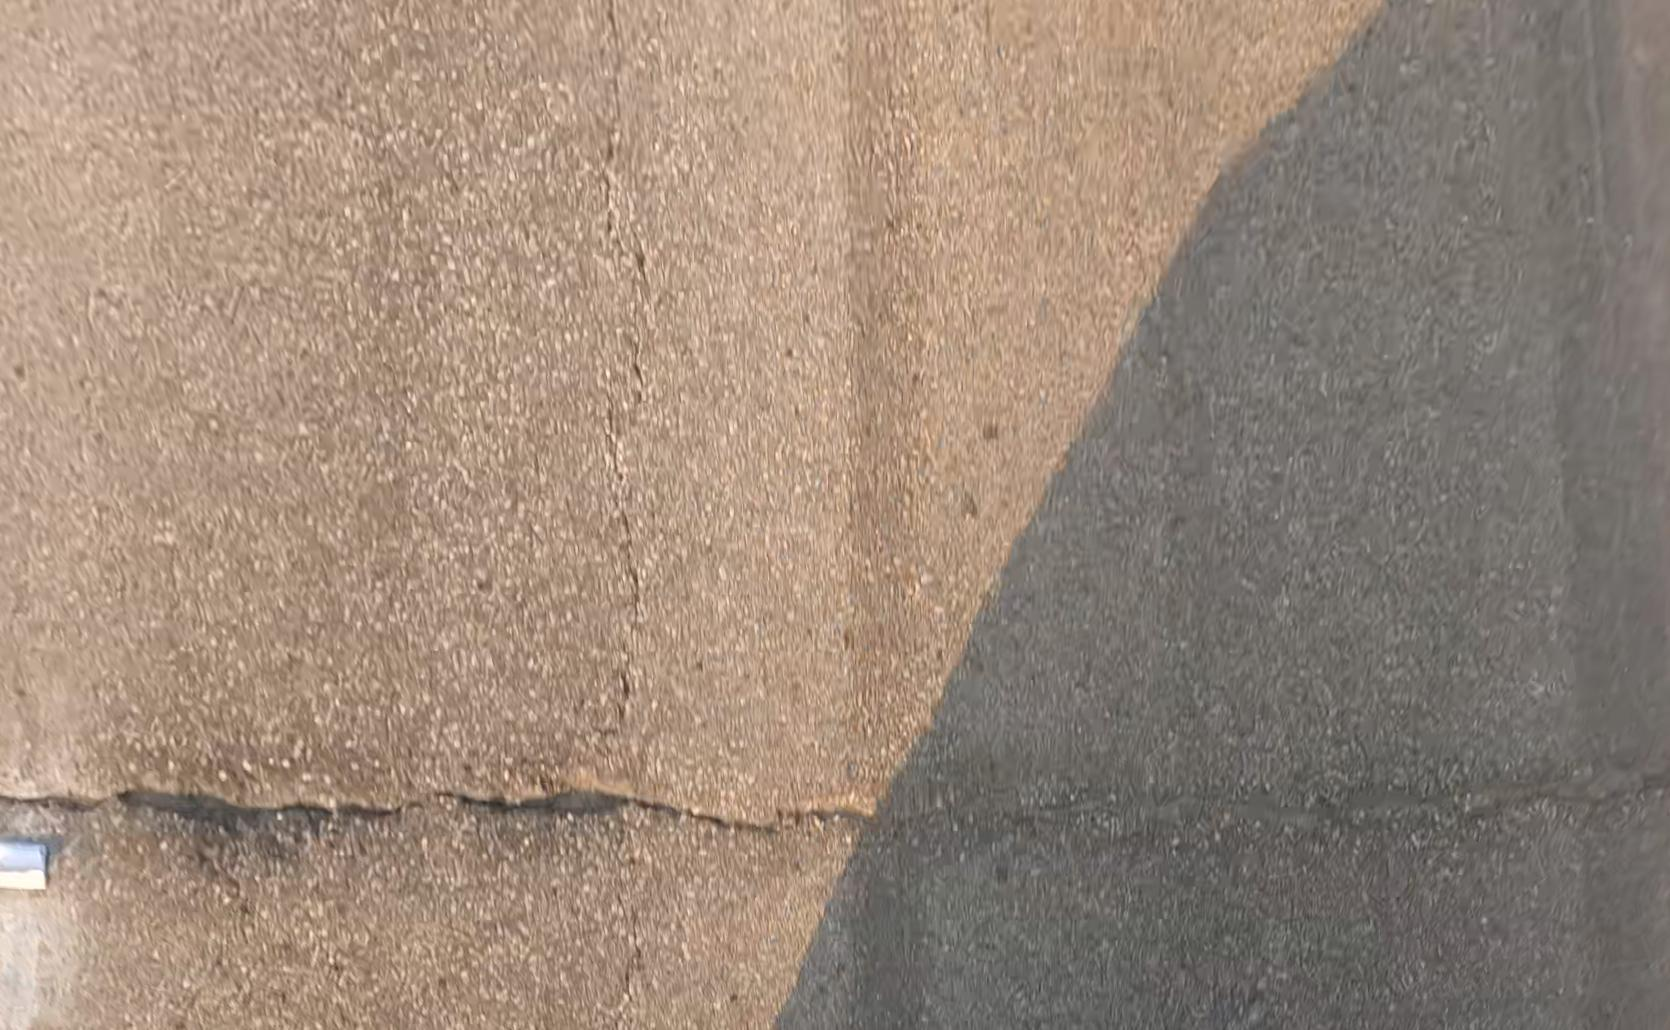pothole: (112, 767, 268, 835), (435, 761, 635, 810)
